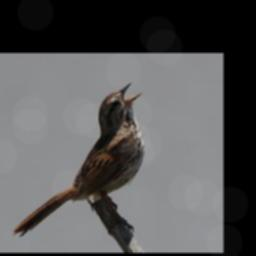Sparrow: (11, 80, 144, 239)
